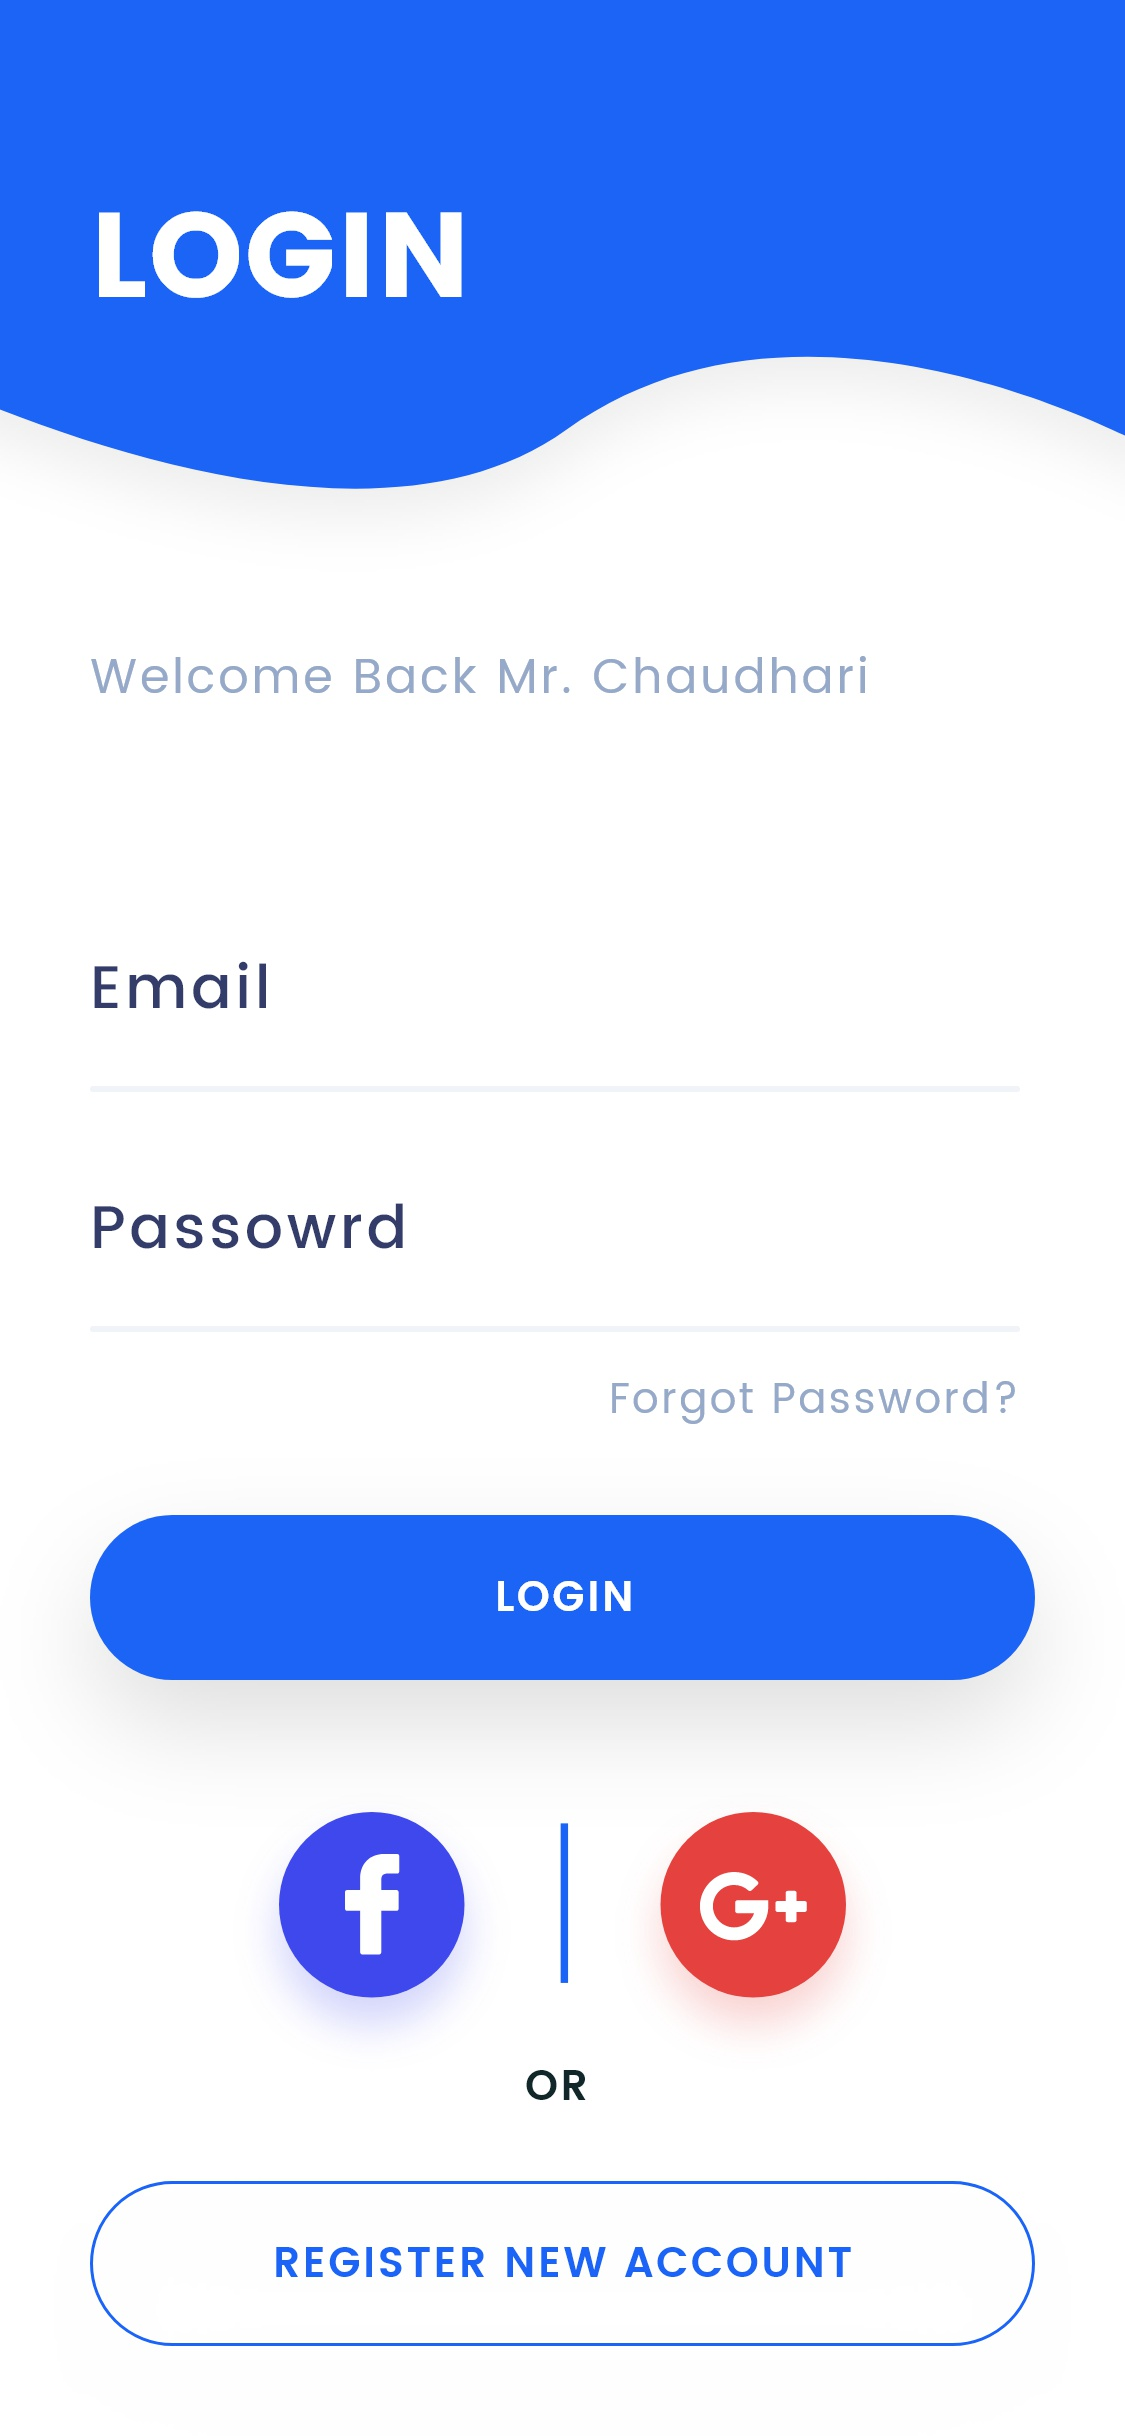EditText: (90, 1202, 1021, 1335), (90, 962, 1019, 1094)
Icon: (660, 1811, 847, 1998), (280, 1811, 466, 1998)
Text: (99, 211, 463, 300), (92, 656, 867, 694), (612, 1380, 1016, 1425), (95, 1202, 406, 1251), (93, 962, 267, 1010), (527, 2069, 587, 2100)
TextButton: (90, 2180, 1036, 2347), (90, 1515, 1036, 1681)
